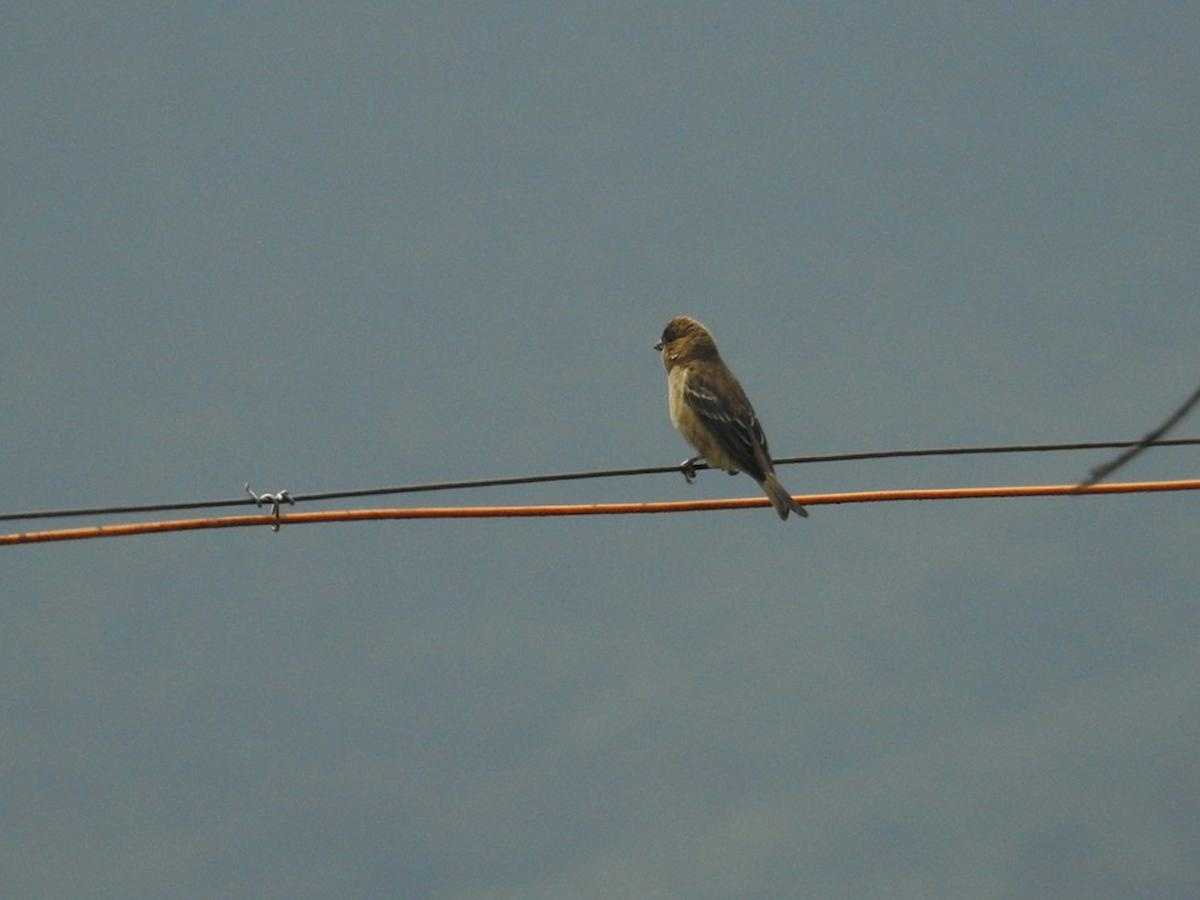rosefinch: (648, 307, 826, 554)
